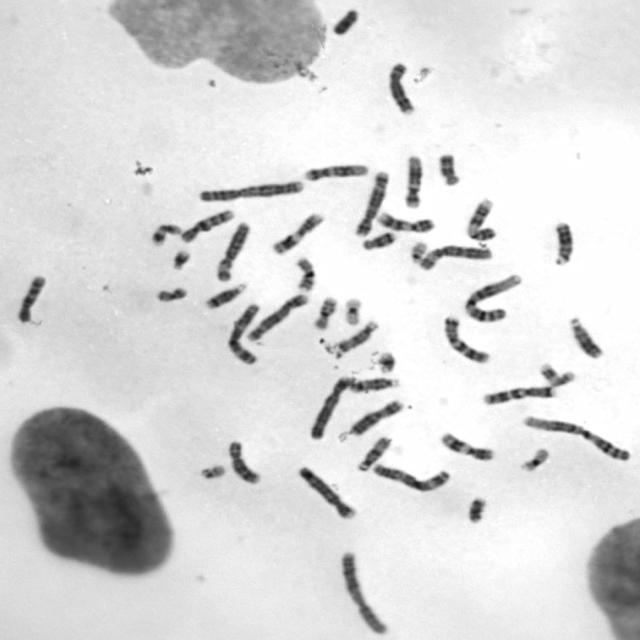A1: (518, 411, 636, 463), (459, 269, 525, 323)
A2: (335, 546, 392, 636), (194, 175, 307, 203)
A3: (369, 459, 453, 493), (223, 299, 263, 366)
B4: (294, 462, 360, 520), (305, 372, 354, 441)
B5: (243, 290, 310, 342), (351, 166, 391, 238)
C10: (176, 204, 237, 243), (13, 270, 49, 324)
C11: (267, 208, 327, 255), (436, 428, 497, 462)
C12: (300, 159, 371, 182), (400, 151, 424, 209)
C6: (211, 217, 253, 282), (414, 240, 495, 271)
C7: (440, 312, 493, 364), (478, 381, 559, 406)
C8: (382, 57, 419, 116), (223, 436, 264, 485)
C9: (462, 194, 498, 241), (372, 208, 436, 234)
D13: (565, 312, 606, 359), (548, 216, 576, 267)
D14: (200, 278, 250, 310), (346, 372, 402, 394)
D15: (330, 316, 380, 358), (353, 432, 393, 473)
E16: (309, 292, 339, 331), (291, 254, 319, 292)
E17: (535, 358, 578, 388), (147, 220, 184, 247)
E18: (434, 149, 462, 187), (358, 227, 398, 251)
F19: (516, 443, 551, 473), (339, 293, 365, 327)
F20: (456, 496, 493, 524), (152, 282, 190, 303)
G21: (372, 347, 398, 374), (167, 245, 193, 271)
G22: (196, 460, 228, 480), (406, 237, 429, 264)
X: (344, 395, 406, 437)
Y: (328, 3, 362, 36)
